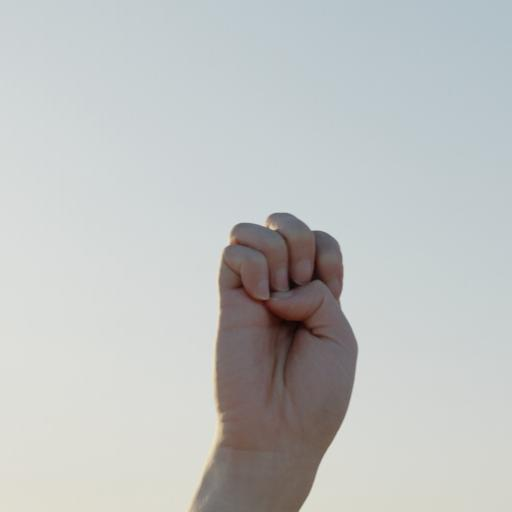E: (183, 197, 367, 512)
